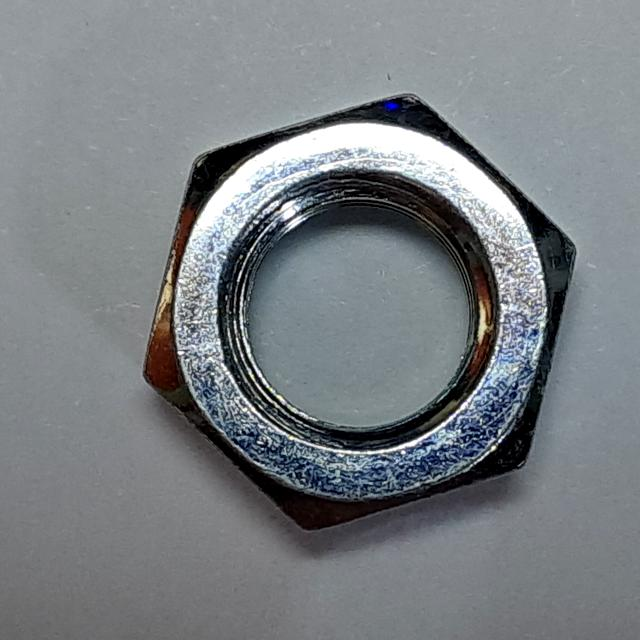Excellent: (126, 76, 589, 553)
